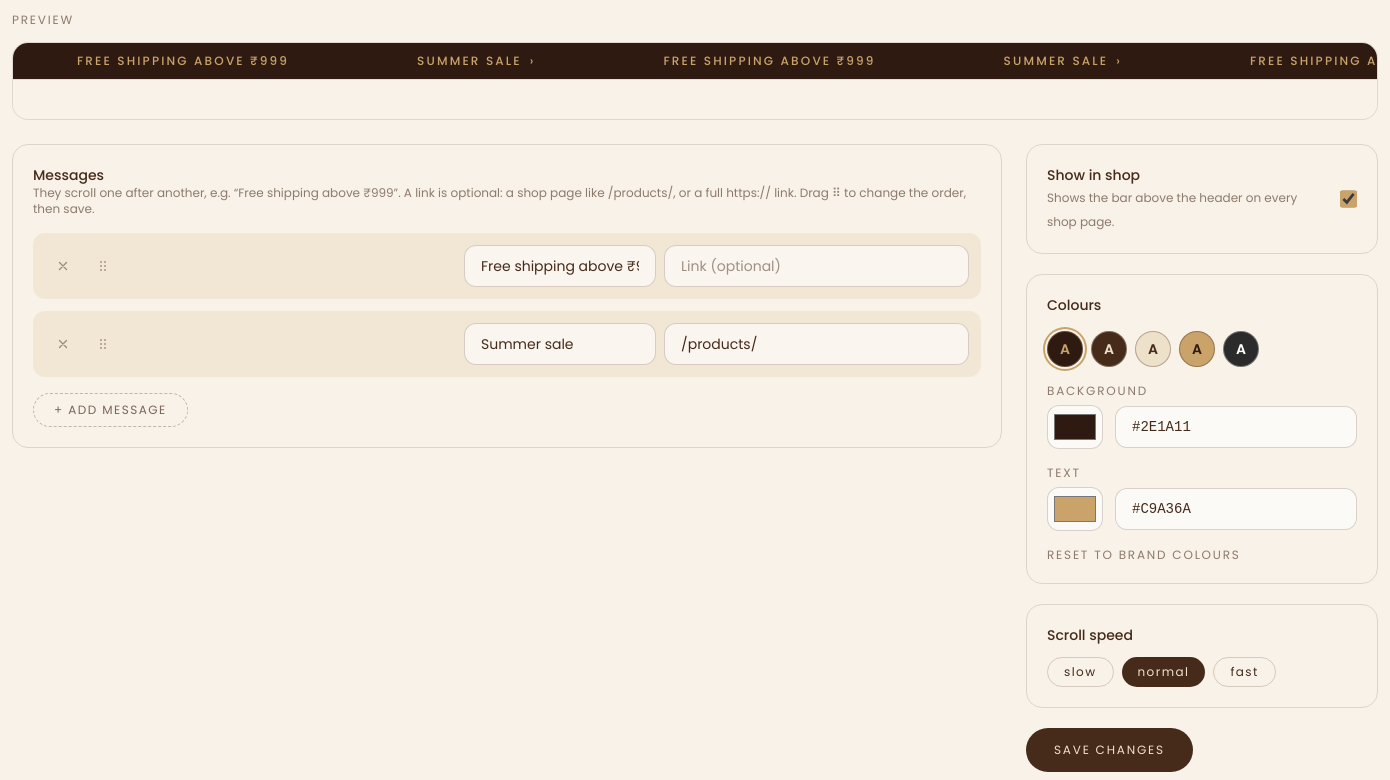
Test: AnnouncementForm › the preview shows the messages as typed
This screenshot has width=1390, height=780.
Replace the text in the field named "Message 1" with "Flat 30% off" at (560, 266), box [464,245,656,287]
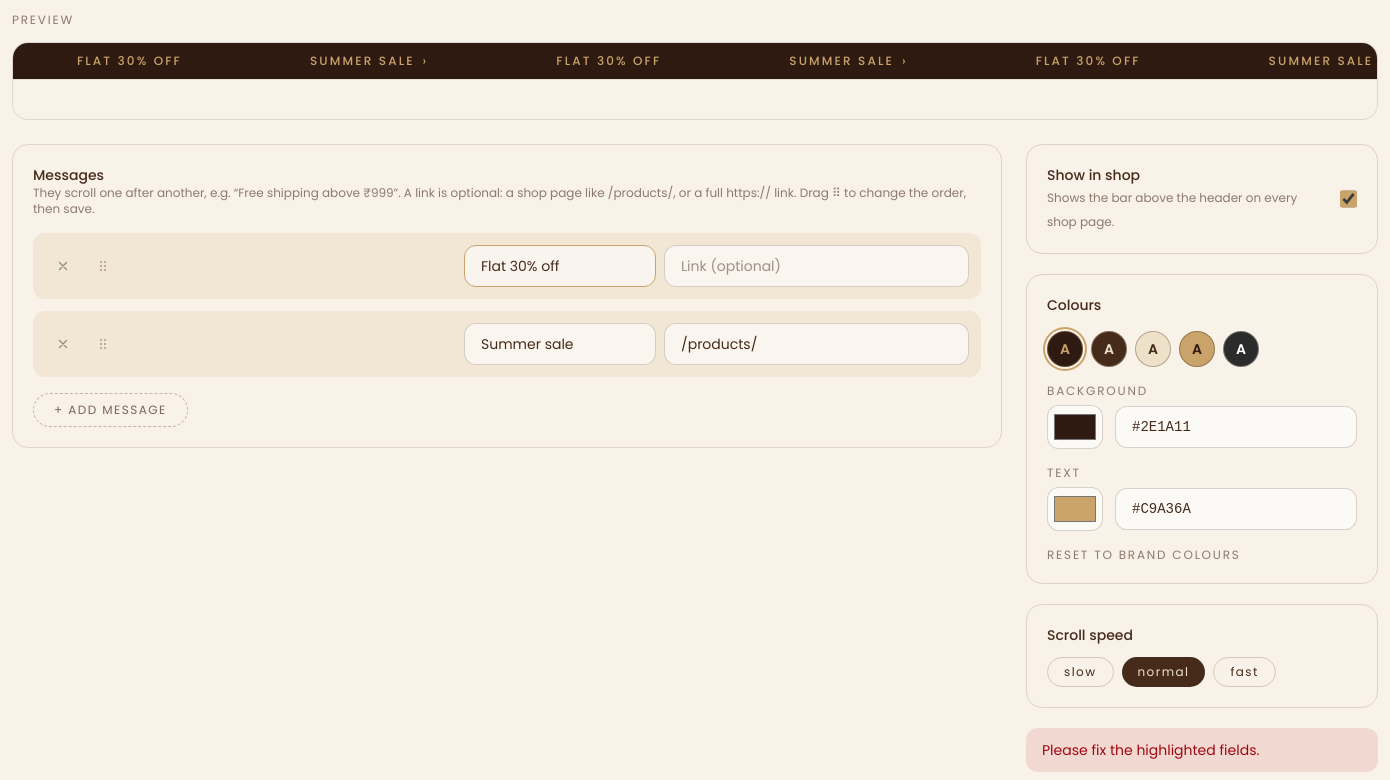
Expected: the 1st text "Flat 30% off" is shown, [77,52,182,69]
